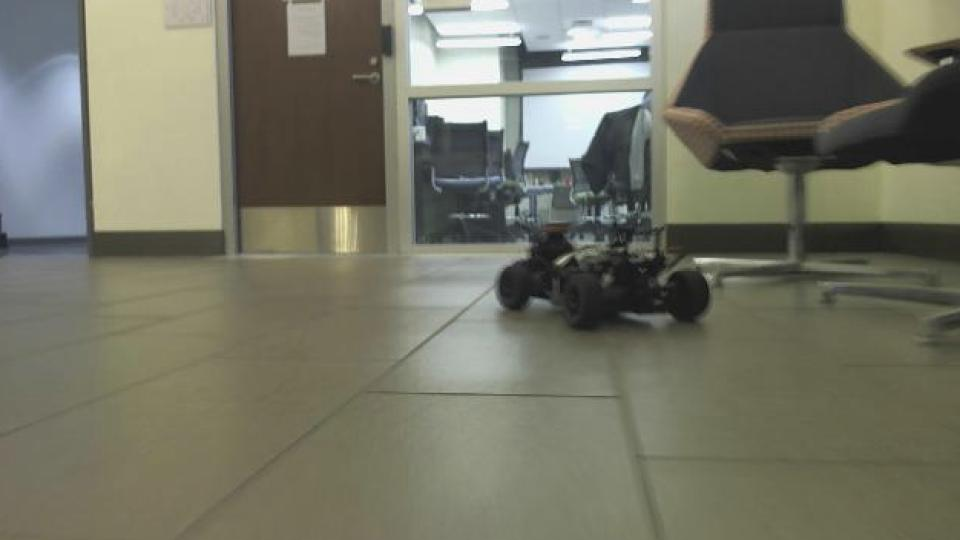car: (494, 95, 714, 331)
